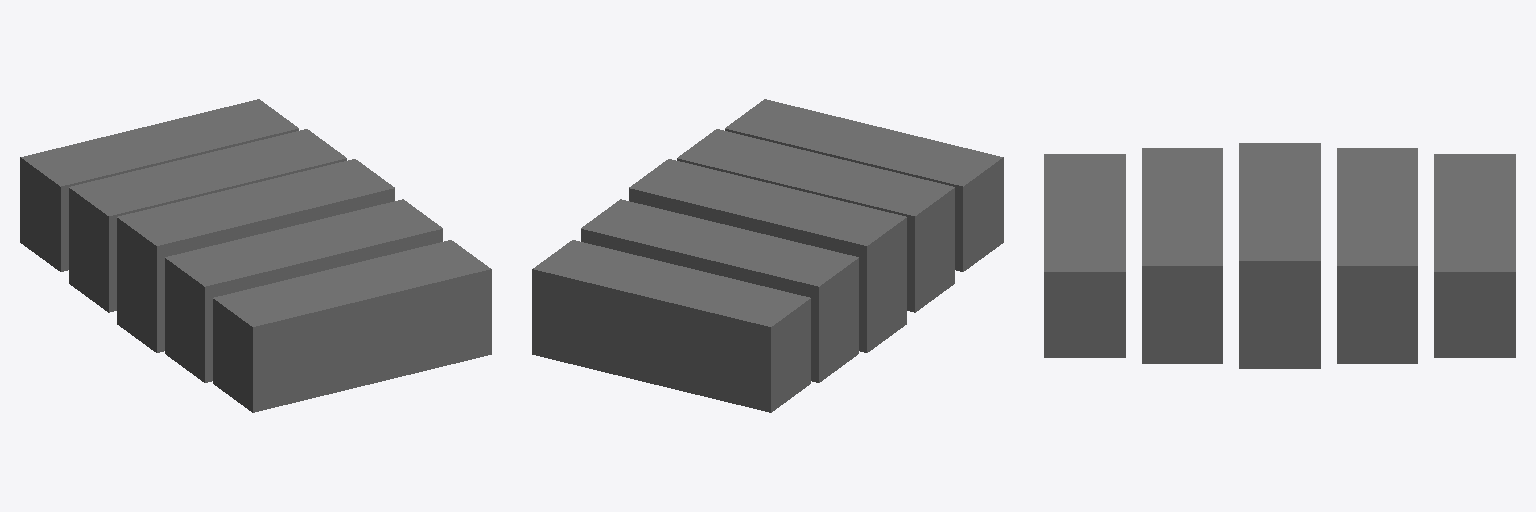
robot.urdf — stone_bag_box_chain:
<?xml version="1.0"?>
<robot name="stone_bag_box_chain">

  <!-- Root link: seg_2 (center segment) -->
  <link name="seg_2">
    <visual>
      <origin xyz="0 0 0" rpy="0 0 0"/>
      <geometry><box size="0.35 0.102 0.15"/></geometry>  <!-- X=width, Y=length, Z=thickness -->
      <material name="gray">
        <color rgba="0.5 0.5 0.5 1.0"/>
      </material>
    </visual>
    <collision>
      <origin xyz="0 0 0" rpy="0 0 0"/>
      <geometry><box size="0.35 0.102 0.15"/></geometry>
    </collision>
  </link>

  <!-- Left side segments (seg_1 and seg_0) -->
  <link name="seg_1">
    <visual>
      <origin xyz="0 0 0" rpy="0 0 0"/>
      <geometry><box size="0.35 0.102 0.135"/></geometry>
      <material name="gray">
        <color rgba="0.5 0.5 0.5 1.0"/>
      </material>
    </visual>
    <collision>
      <origin xyz="0 0 0" rpy="0 0 0"/>
      <geometry><box size="0.35 0.102 0.135"/></geometry>
    </collision>
  </link>

  <link name="seg_0">
    <visual>
      <origin xyz="0 0 0" rpy="0 0 0"/>
      <geometry><box size="0.35 0.102 0.12"/></geometry>
      <material name="gray">
        <color rgba="0.5 0.5 0.5 1.0"/>
      </material>
    </visual>
    <collision>
      <origin xyz="0 0 0" rpy="0 0 0"/>
      <geometry><box size="0.35 0.102 0.12"/></geometry>
    </collision>
  </link>

  <!-- Right side segments (seg_3 and seg_4) -->
  <link name="seg_3">
    <visual>
      <origin xyz="0 0 0" rpy="0 0 0"/>
      <geometry><box size="0.35 0.102 0.135"/></geometry>
      <material name="gray">
        <color rgba="0.5 0.5 0.5 1.0"/>
      </material>
    </visual>
    <collision>
      <origin xyz="0 0 0" rpy="0 0 0"/>
      <geometry><box size="0.35 0.102 0.135"/></geometry>
    </collision>
  </link>

  <link name="seg_4">
    <visual>
      <origin xyz="0 0 0" rpy="0 0 0"/>
      <geometry><box size="0.35 0.102 0.12"/></geometry>
      <material name="gray">
        <color rgba="0.5 0.5 0.5 1.0"/>
      </material>
    </visual>
    <collision>
      <origin xyz="0 0 0" rpy="0 0 0"/>
      <geometry><box size="0.35 0.102 0.12"/></geometry>
    </collision>
  </link>

  <!-- Joints branching from center (seg_2) along Y-axis -->
  <!-- Bending around X-axis so it flexes in Y-Z plane -->
  
  <joint name="j_2_1" type="revolute">
    <parent link="seg_2"/>
    <child link="seg_1"/>
    <origin xyz="0 -0.122 0" rpy="0 0 0"/>  <!-- Negative Y to go left -->
    <axis xyz="1 0 0"/>  <!-- Rotate around X-axis -->
    <limit lower="-0.133" upper="0.133" effort="500" velocity="2.0"/>
    <dynamics damping="5.0" friction="1.0"/>
  </joint>

  <joint name="j_1_0" type="revolute">
    <parent link="seg_1"/>
    <child link="seg_0"/>
    <origin xyz="0 -0.122 0" rpy="0 0 0"/>  <!-- Continue left along Y -->
    <axis xyz="1 0 0"/>
    <limit lower="-0.133" upper="0.133" effort="500" velocity="2.0"/>
    <dynamics damping="5.0" friction="1.0"/>
  </joint>

  <joint name="j_2_3" type="revolute">
    <parent link="seg_2"/>
    <child link="seg_3"/>
    <origin xyz="0 0.122 0" rpy="0 0 0"/>  <!-- Positive Y to go right -->
    <axis xyz="1 0 0"/>
    <limit lower="-0.133" upper="0.133" effort="500" velocity="2.0"/>
    <dynamics damping="5.0" friction="1.0"/>
  </joint>

  <joint name="j_3_4" type="revolute">
    <parent link="seg_3"/>
    <child link="seg_4"/>
    <origin xyz="0 0.122 0" rpy="0 0 0"/>  <!-- Continue right along Y -->
    <axis xyz="1 0 0"/>
    <limit lower="-0.133" upper="0.133" effort="500" velocity="2.0"/>
    <dynamics damping="5.0" friction="1.0"/>
  </joint>

</robot>

--- Facts derived from the render (not from the file) ---
Views: 3 orthographic renders of the robot side by side, from view 1: azimuth 30°, elevation 25°; view 2: azimuth 150°, elevation 25°; view 3: azimuth 270°, elevation 25°.
Robot: stone_bag_box_chain — 5 links, 4 joints (4 revolute); root link seg_2; default pose: every joint at zero.
Links seen in each view (by area): view 1: seg_0, seg_2, seg_1, seg_3, seg_4; view 2: seg_4, seg_2, seg_3, seg_1, seg_0; view 3: seg_2, seg_1, seg_3, seg_0, seg_4.
Boxes of the visible links, <box> form: seg_0: <box>213,240,491,412</box>; seg_2: <box>117,159,394,352</box>; seg_1: <box>165,199,442,382</box>; seg_3: <box>69,129,346,312</box>; seg_4: <box>20,99,298,271</box>; seg_4: <box>532,240,810,412</box>; seg_2: <box>629,159,906,352</box>; seg_3: <box>581,199,858,382</box>; seg_1: <box>677,129,954,312</box>; seg_0: <box>725,99,1003,271</box>; seg_2: <box>1239,143,1320,368</box>; seg_1: <box>1142,148,1222,363</box>; seg_3: <box>1337,148,1417,363</box>; seg_0: <box>1044,154,1125,357</box>; seg_4: <box>1434,154,1515,357</box>.
Size in the robot's own frame: 0.35 by 0.59 by 0.15 metres.
Geometry: primitives only (box / cylinder / sphere), no mesh files.
